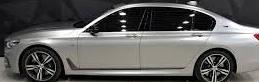Cars: (6, 5, 259, 82)
